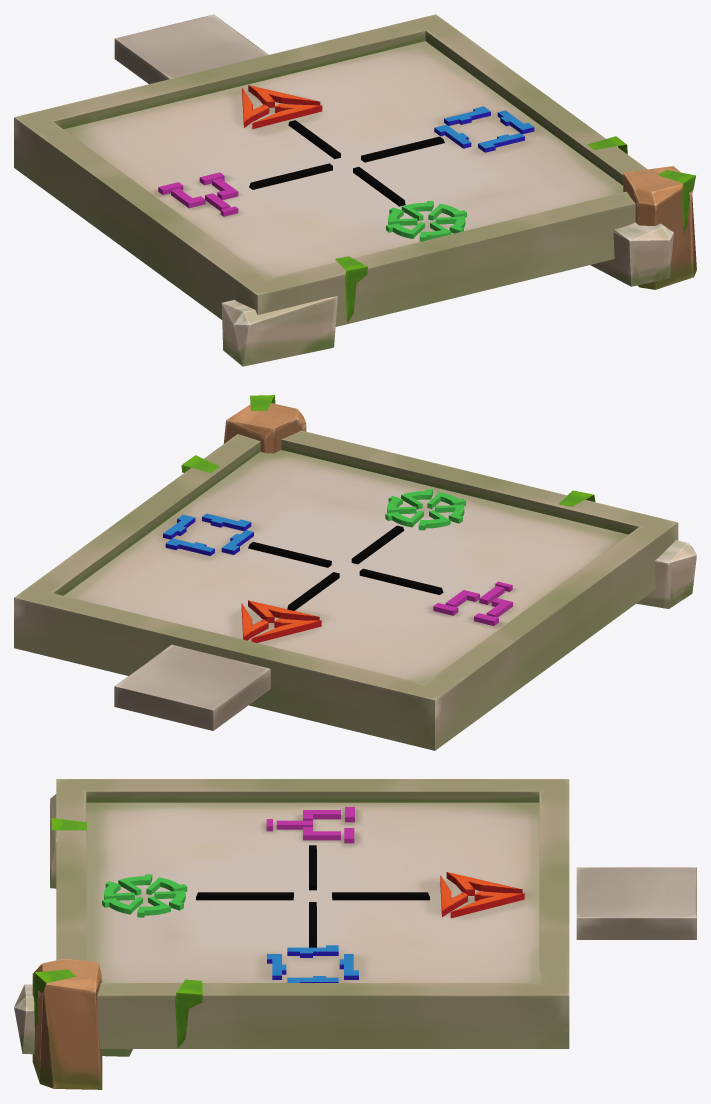
File: Direcionador - Board 1.fbx
3 renders of one model, top to bottom at view 1: azimuth 30°, elevation 25°; view 2: azimuth 150°, elevation 25°; view 3: azimuth 270°, elevation 25°, orthographic. The views are drawn at different scales.
Visible parts, largest first — view 1: Board; view 2: Board; view 3: Board.
Part boxes in pixels (x1=…): Board: x1=14, y1=14, x2=696, y2=366; Board: x1=14, y1=395, x2=696, y2=750; Board: x1=14, y1=779, x2=696, y2=1089.
Size of the model in its own units: 931 by 191 by 1134.
